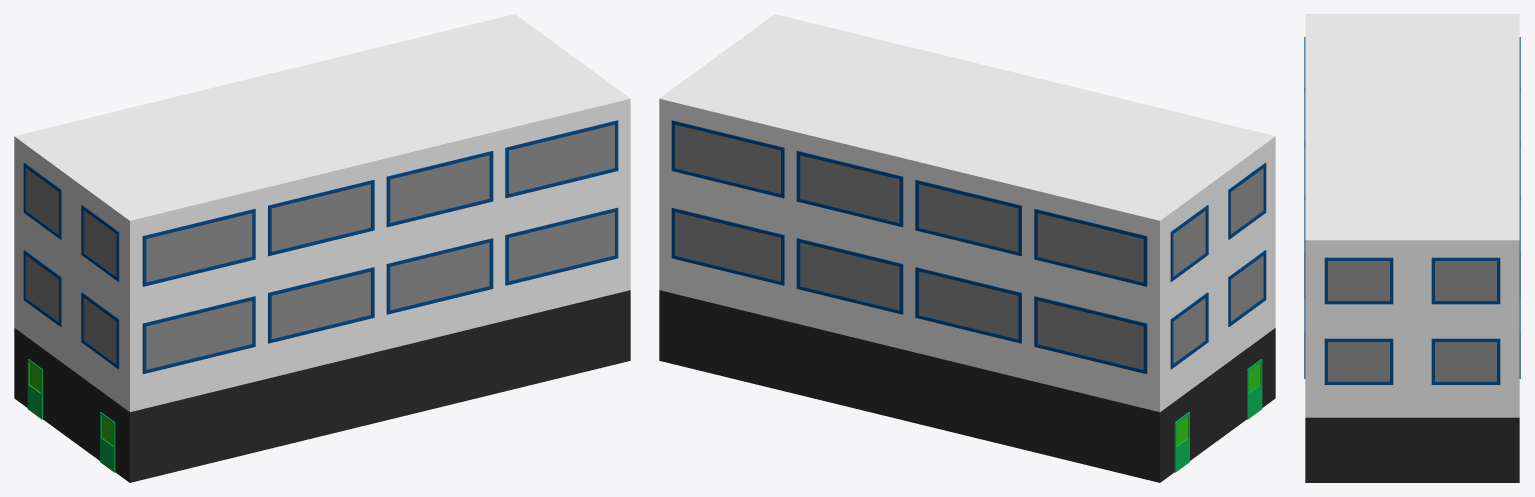
Rendered from Building_01.FBX.
3 views of the same model, side by side, from view 1: azimuth 30°, elevation 25°; view 2: azimuth 150°, elevation 25°; view 3: azimuth 270°, elevation 25° (orthographic). The views are drawn at different scales.
Visible parts, largest first — view 1: Box001; view 2: Box001; view 3: Box001.
Boxes of the visible parts, x1=… form: Box001: x1=14, y1=14, x2=630, y2=482; Box001: x1=659, y1=14, x2=1275, y2=482; Box001: x1=1304, y1=14, x2=1520, y2=482.
Size of the model in its own units: 50.2 by 20.2 by 25.
